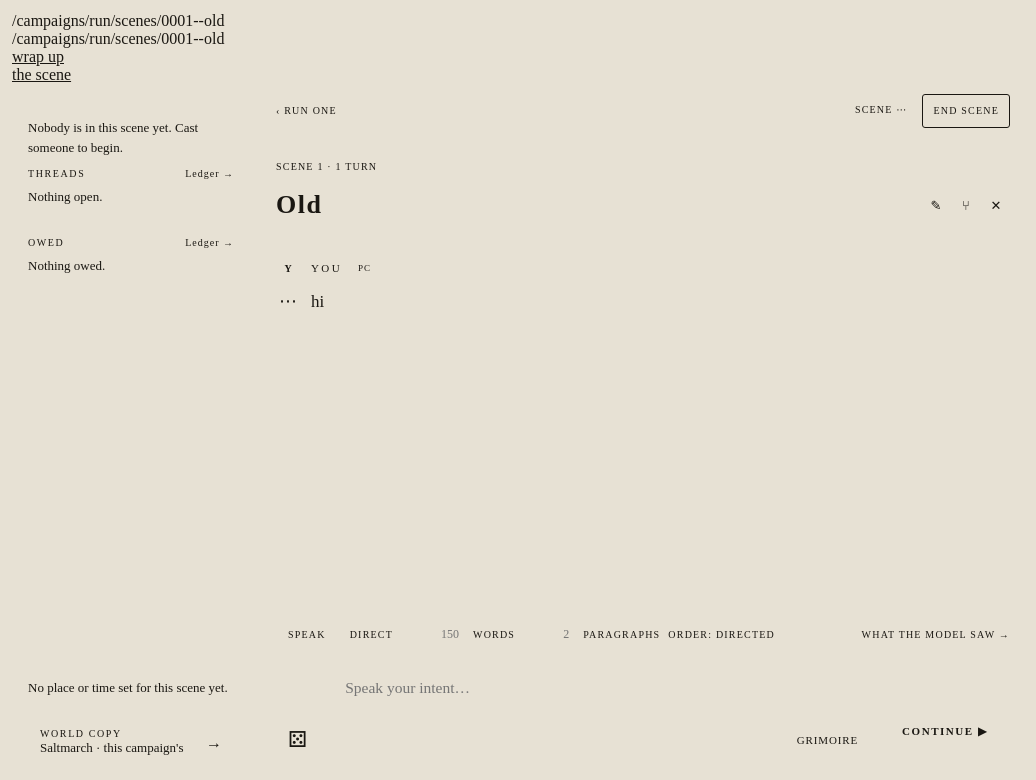
Scenario: a fork the server refuses is reported and the reader stays put
Check: the text "hi" is shown, box [311,292,324,311]
Click the button named "Fork campaign at this scene" at (966, 205), box [952,191,980,219]
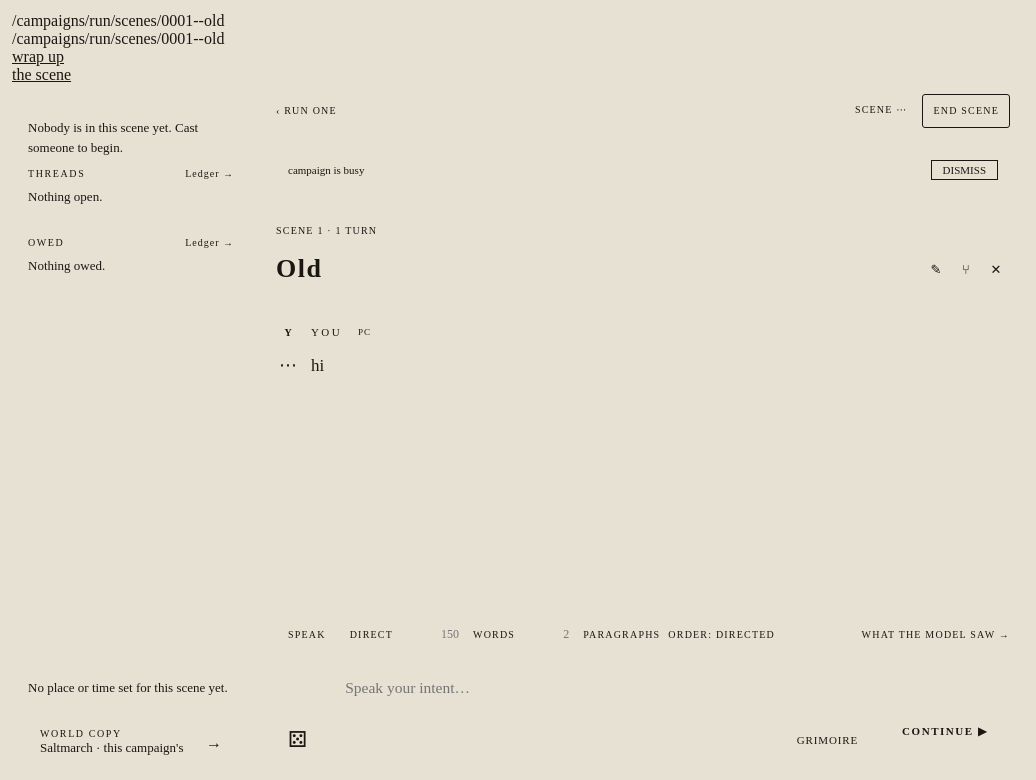
Check: the text with test id "here" shows "/campaigns/run", box [12,12,224,29]
Check: the text "campaign is busy" is shown, box [288,164,364,176]
